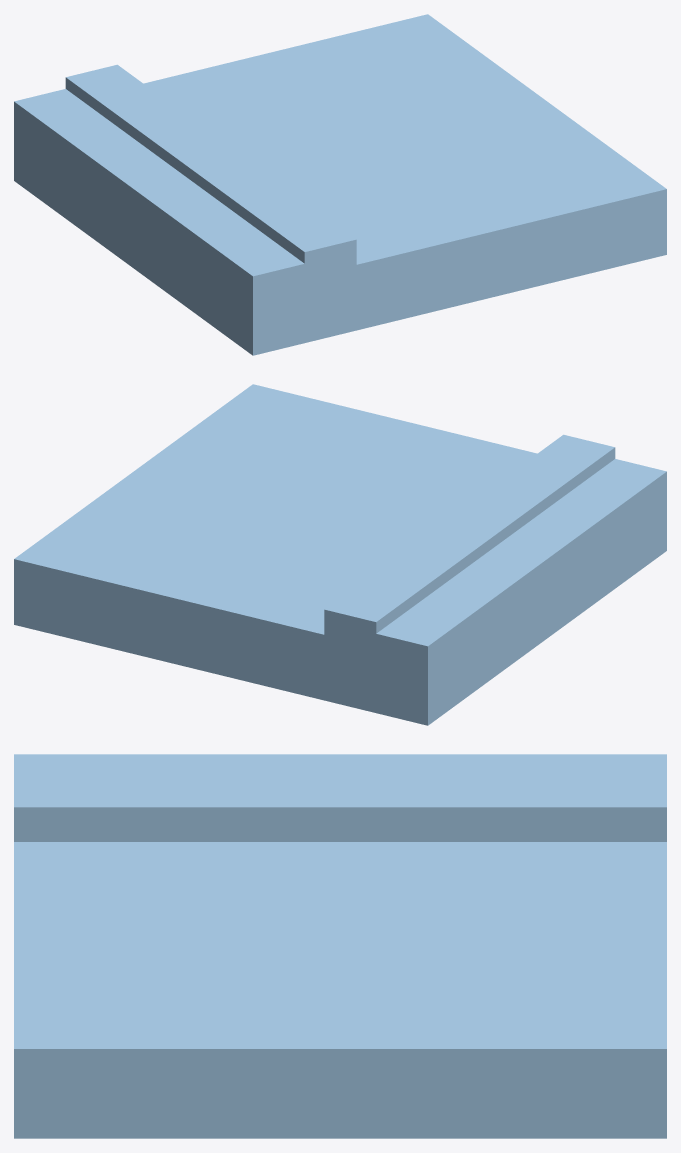
The model's file is roadtile_283.glb.
3 renders of one model, top to bottom at view 1: azimuth 30°, elevation 25°; view 2: azimuth 150°, elevation 25°; view 3: azimuth 270°, elevation 25°, orthographic. The views are drawn at different scales.
Parts seen in each view (by area): view 1: Mesh1 Group1 Model; view 2: Mesh1 Group1 Model; view 3: Mesh1 Group1 Model.
Boxes of the visible parts, x1,y1,x2,y2 form: Mesh1 Group1 Model: (14,14,666,355); Mesh1 Group1 Model: (14,384,666,725); Mesh1 Group1 Model: (14,754,666,1138).
Bounding box in the file's own units: 3 × 0.63 × 3.
